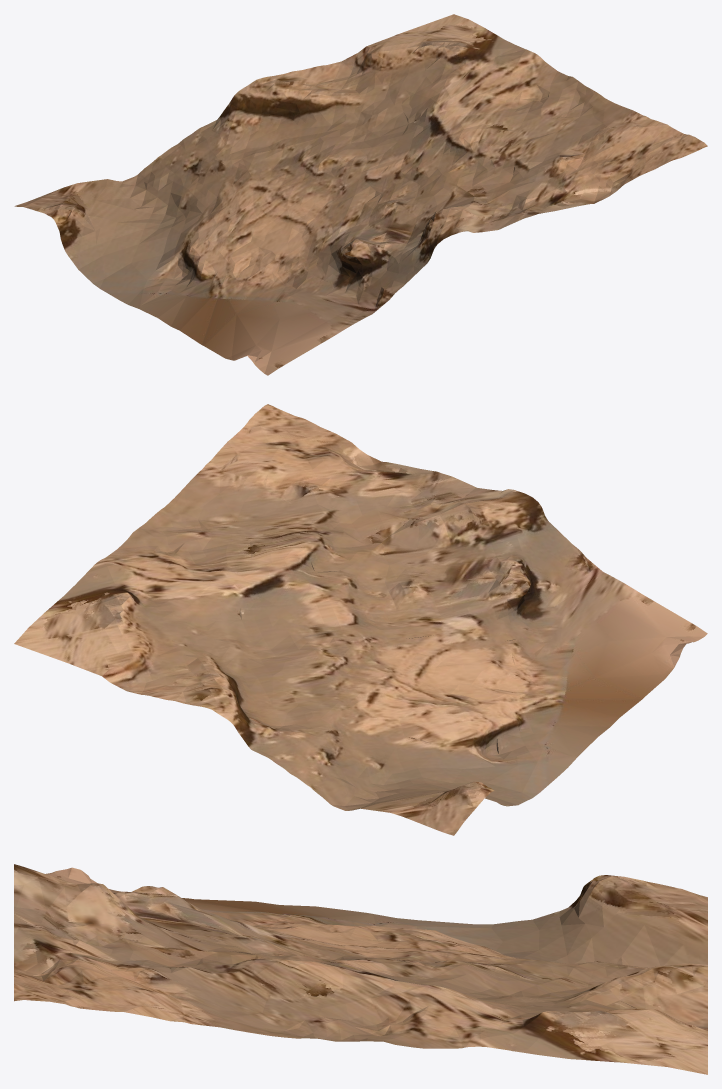
3 views of the same model, one above another, from view 1: azimuth 30°, elevation 25°; view 2: azimuth 150°, elevation 25°; view 3: azimuth 270°, elevation 25° (orthographic). The views are drawn at different scales.
Size of the model in its own units: 1.04 by 0.3613 by 1.04.
Materials: 3 (3 with a texture image).
